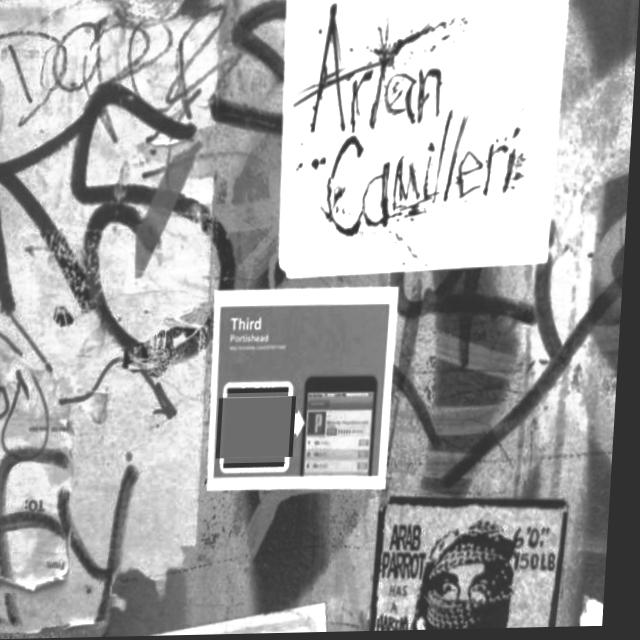qr_code: (225, 393, 297, 465)
